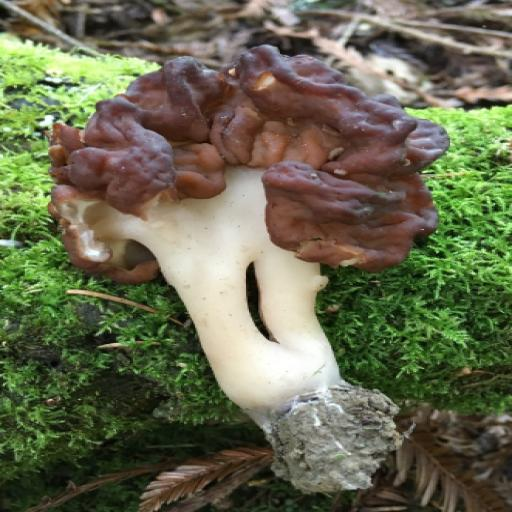False Morel: (4, 0, 512, 492)
